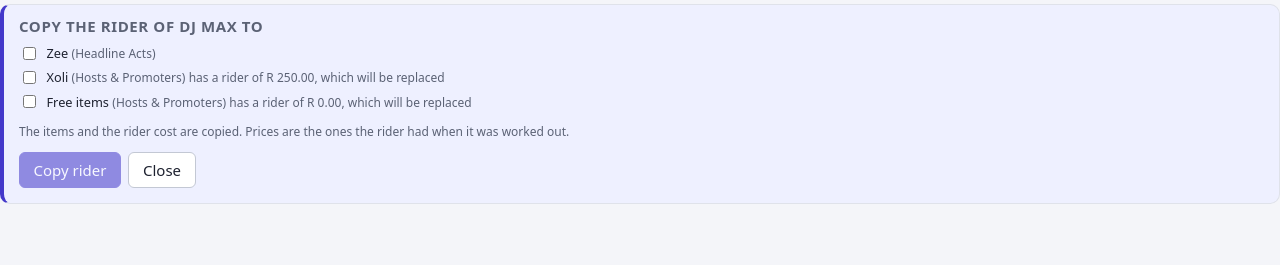
Scenario: CopyRiderPanel › shows the error and stays open when the copy fails, so it can be tried again
Later steps or results of the test are not shown.
Click the checkbox labelled "Zee (Headline Acts)".
click(30, 53)  # box [23,46,36,60]
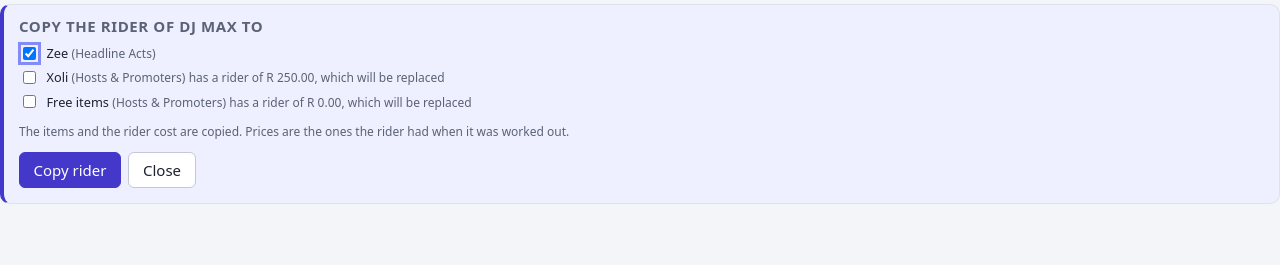
Click the button "Copy rider".
click(70, 170)  # box [19,152,121,188]
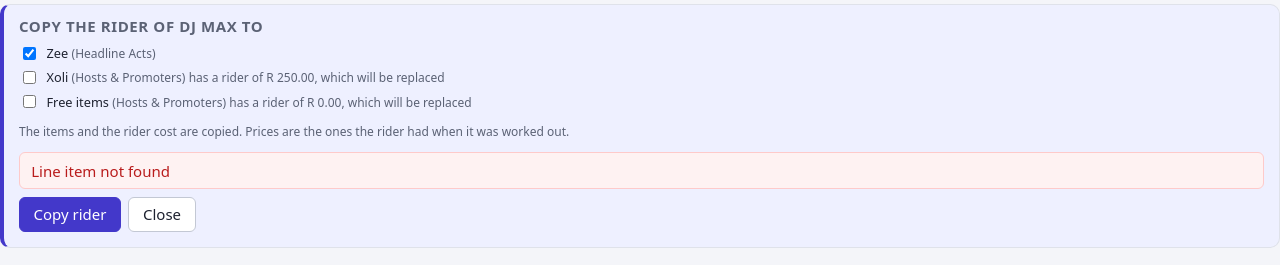
expect the text "Line item not found" is shown: met, box [19,152,1264,189]
